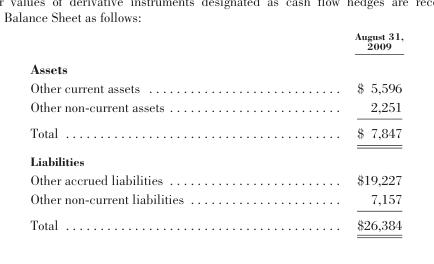table: (29, 29, 403, 232)
table column: (29, 29, 268, 232), (268, 29, 403, 232)
table column header: (29, 29, 403, 55)
table projected row header: (29, 146, 403, 169), (29, 55, 403, 77)
table row: (29, 119, 403, 146), (29, 29, 403, 55), (29, 96, 403, 119), (29, 146, 403, 169), (29, 188, 403, 211), (29, 55, 403, 77), (29, 211, 403, 232), (29, 77, 403, 96), (29, 169, 403, 188)
